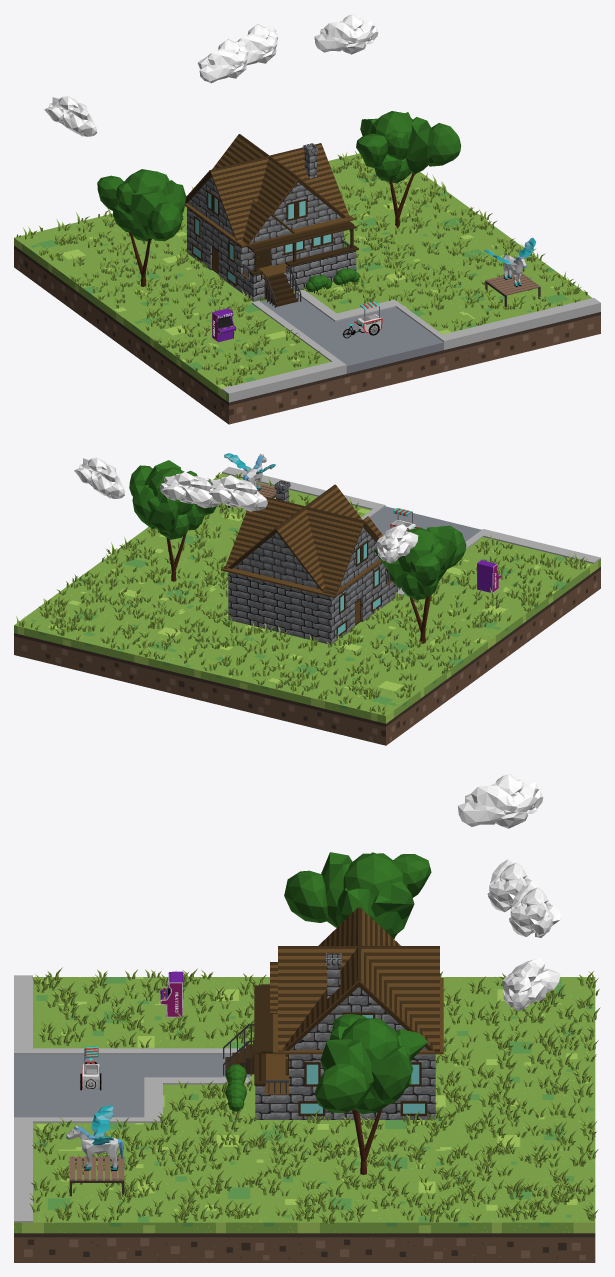
3 renders of one model, top to bottom at view 1: azimuth 30°, elevation 25°; view 2: azimuth 150°, elevation 25°; view 3: azimuth 270°, elevation 25°, orthographic. The views are drawn at different scales.
Parts seen in each view (by area): view 1: Cube.006, Cube.586, Circle.012_Grass_0.192, Cube.007, tree, tree.001, ANIMAL_PEGASO, Cube.009, OBJRANDOM_ARCADE, VEHICLES_SNOWBAL_BIKE; view 2: Cube.006, Cube.586, Circle.012_Grass_0.192, Cube.007, tree.001, tree, ANIMAL_PEGASO, OBJRANDOM_ARCADE; view 3: Cube.006, Circle.012_Grass_0.192, Cube.586, tree, Cube.007, tree.001, ANIMAL_PEGASO, Cube.009, OBJRANDOM_ARCADE, VEHICLES_SNOWBAL_BIKE.
Boxes of the visible parts, bbox=[...] form: Cube.006: bbox=[14, 153, 600, 424]; Cube.586: bbox=[185, 134, 358, 307]; Circle.012_Grass_0.192: bbox=[16, 151, 587, 386]; Cube.007: bbox=[44, 14, 378, 136]; tree: bbox=[356, 111, 460, 228]; tree.001: bbox=[97, 169, 186, 286]; ANIMAL_PEGASO: bbox=[484, 237, 535, 286]; Cube.009: bbox=[485, 273, 540, 306]; OBJRANDOM_ARCADE: bbox=[212, 308, 236, 342]; VEHICLES_SNOWBAL_BIKE: bbox=[342, 301, 382, 338]; Cube.006: bbox=[14, 467, 600, 745]; Cube.586: bbox=[221, 480, 397, 644]; Circle.012_Grass_0.192: bbox=[16, 472, 587, 715]; Cube.007: bbox=[74, 457, 418, 563]; tree.001: bbox=[374, 525, 466, 643]; tree: bbox=[129, 460, 216, 581]; ANIMAL_PEGASO: bbox=[224, 453, 275, 490]; OBJRANDOM_ARCADE: bbox=[477, 560, 501, 592]; Cube.006: bbox=[14, 975, 595, 1262]; Circle.012_Grass_0.192: bbox=[29, 967, 600, 1223]; Cube.586: bbox=[223, 907, 443, 1119]; tree: bbox=[314, 1014, 428, 1174]; Cube.007: bbox=[457, 774, 560, 1011]; tree.001: bbox=[284, 852, 431, 938]; ANIMAL_PEGASO: bbox=[66, 1105, 123, 1170]; Cube.009: bbox=[69, 1156, 124, 1196]; OBJRANDOM_ARCADE: bbox=[160, 971, 183, 1017]; VEHICLES_SNOWBAL_BIKE: bbox=[80, 1046, 101, 1090].
Size of the model in its own units: 4071 by 2126 by 4040.
Materials: 38 (5 with a texture image).
